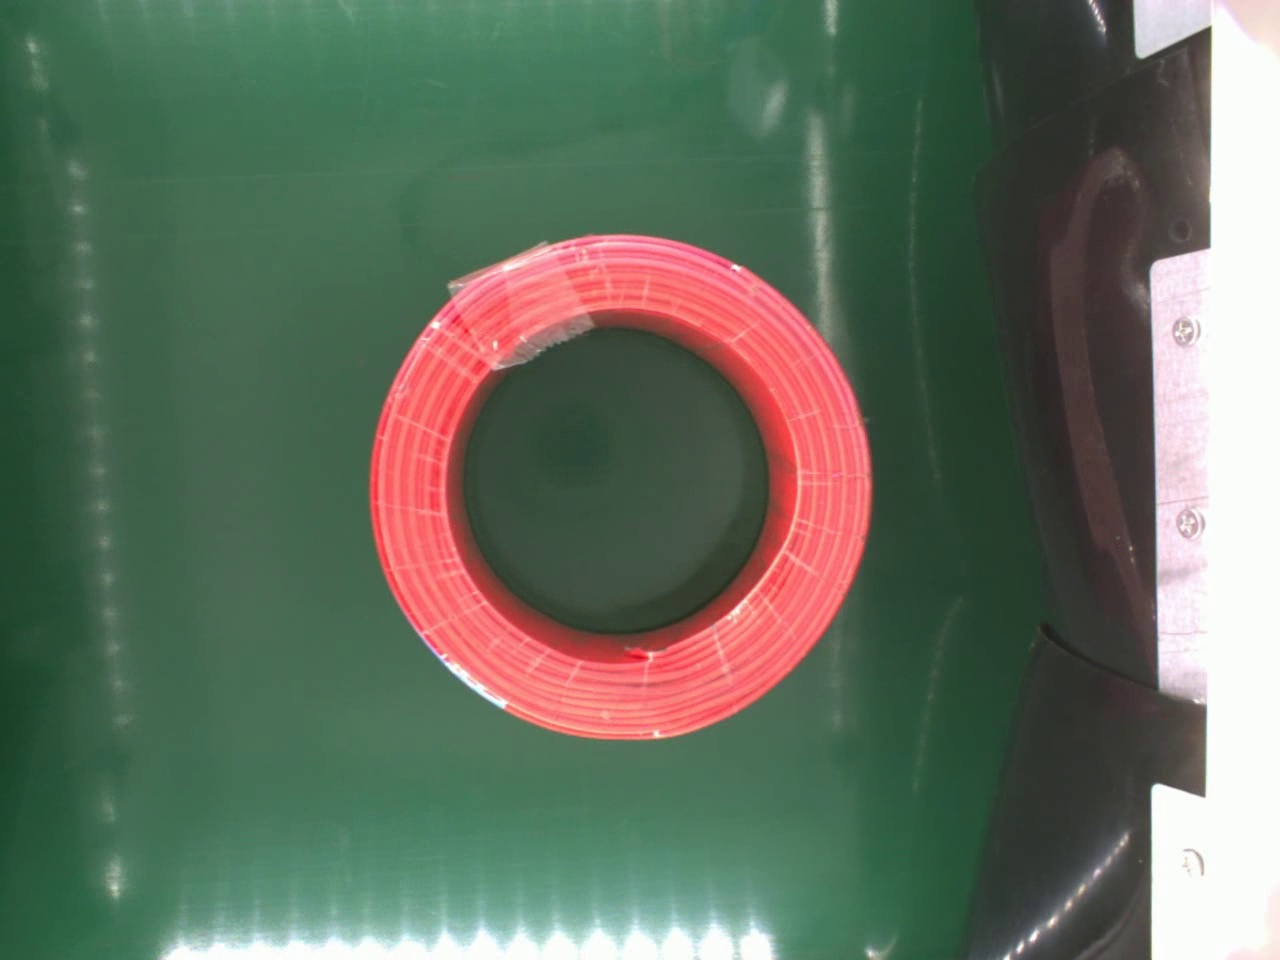red: (370, 226, 876, 745)
